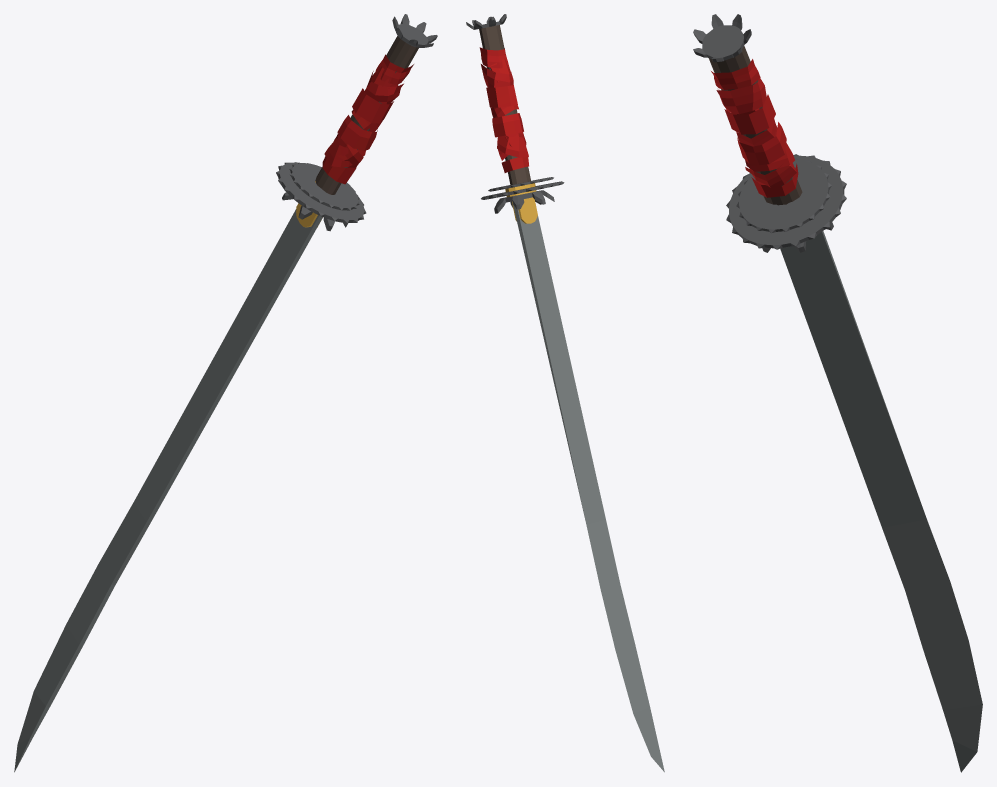
Rendered from Katana-CnapAG_C.glb.
3 views of the same model, side by side, from view 1: azimuth 30°, elevation 25°; view 2: azimuth 150°, elevation 25°; view 3: azimuth 270°, elevation 25° (orthographic). The views are drawn at different scales.
Parts seen in each view (by area): view 1: Katana.001; view 2: Katana.001; view 3: Katana.001.
Boxes of the visible parts, <box> form: Katana.001: <box>14,14,437,772</box>; Katana.001: <box>466,14,664,772</box>; Katana.001: <box>693,14,982,772</box>.
Bounding box in the file's own units: 0.4534 × 1 × 0.2812.
Materials: 1 (1 with a texture image).
